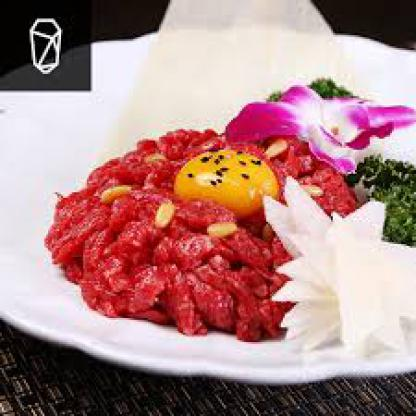Korean style raw beef: (63, 129, 353, 320)
